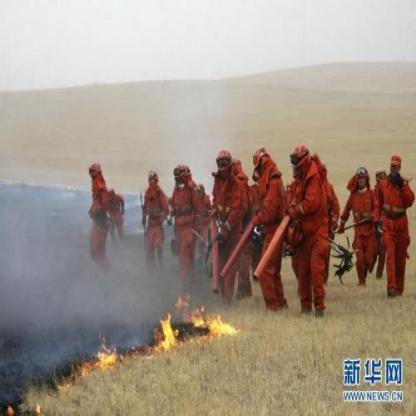fire: (149, 288, 240, 355), (72, 340, 133, 372)
other: (141, 142, 413, 315), (79, 148, 134, 262)
smoke: (19, 222, 98, 309)
